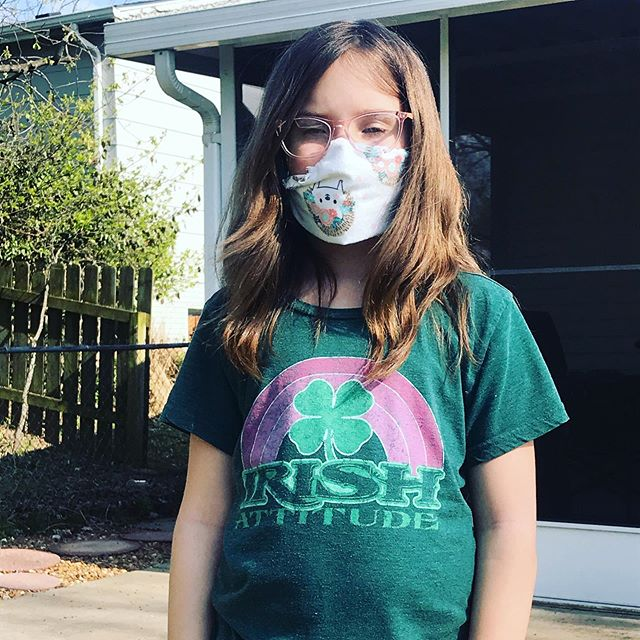homemade: (278, 144, 413, 247)
